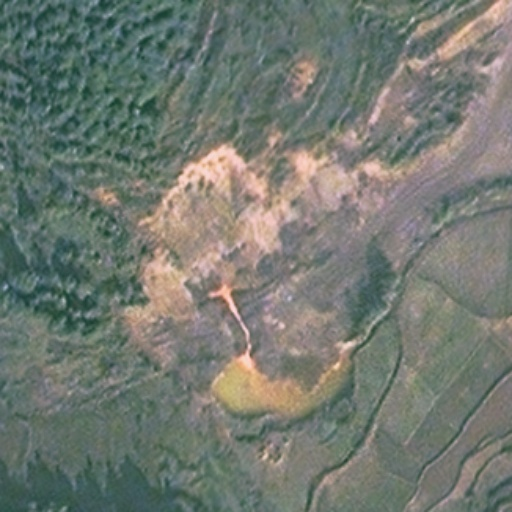landslide: (119, 136, 243, 347), (243, 149, 388, 249)
